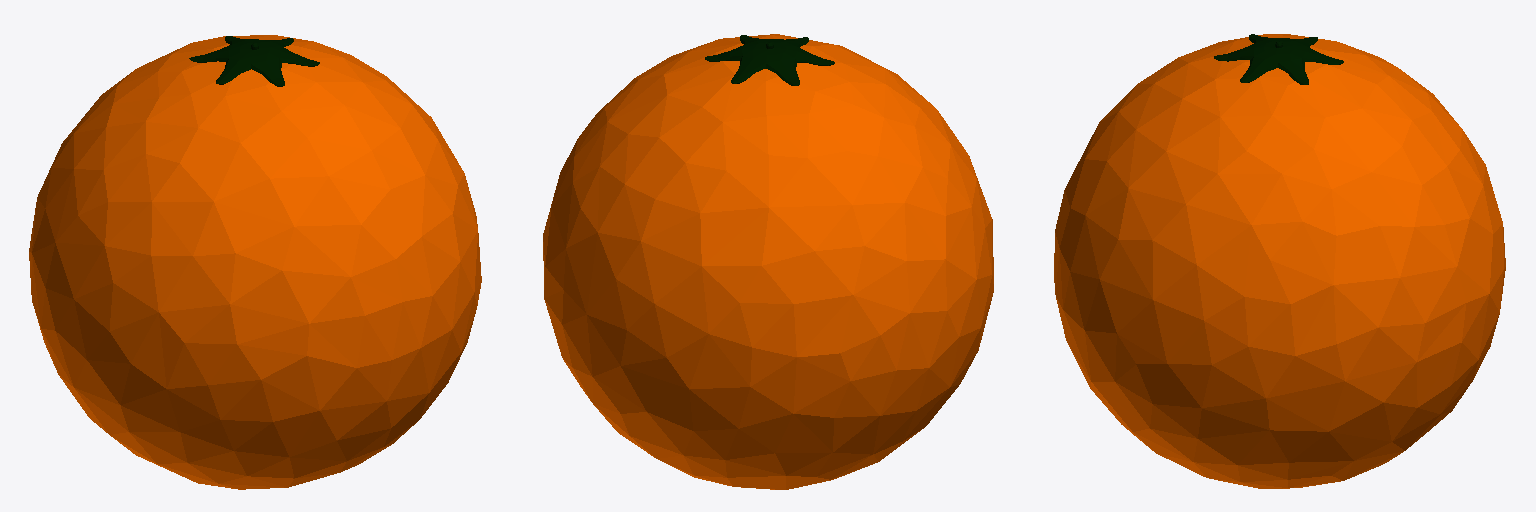
File: Orange.obj
3 views of the same model, side by side, from view 1: azimuth 30°, elevation 25°; view 2: azimuth 150°, elevation 25°; view 3: azimuth 270°, elevation 25° (orthographic).
Parts seen in each view (by area): view 1: 球.002, mi; view 2: 球.002, mi; view 3: 球.002, mi.
Boxes of the visible parts, x1,y1,x2,y2 form: 球.002: [29, 35, 481, 489]; mi: [189, 36, 319, 86]; 球.002: [543, 34, 993, 489]; mi: [705, 35, 834, 85]; 球.002: [1054, 34, 1505, 488]; mi: [1214, 34, 1343, 84].
Size of the model in its own units: 0.7929 by 0.8258 by 0.7928.